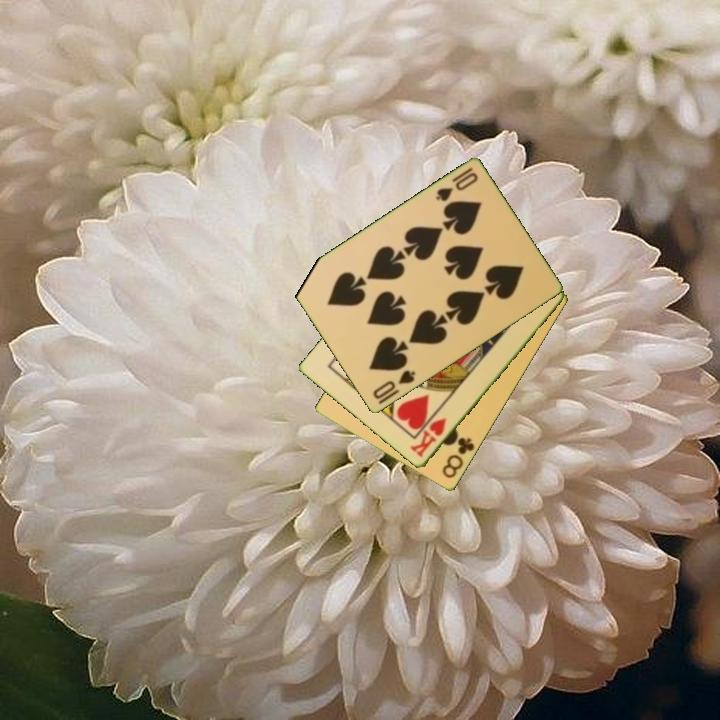10s: (432, 164, 481, 205), (369, 367, 418, 403)
8c: (439, 434, 478, 482)
Kh: (407, 414, 449, 461)
